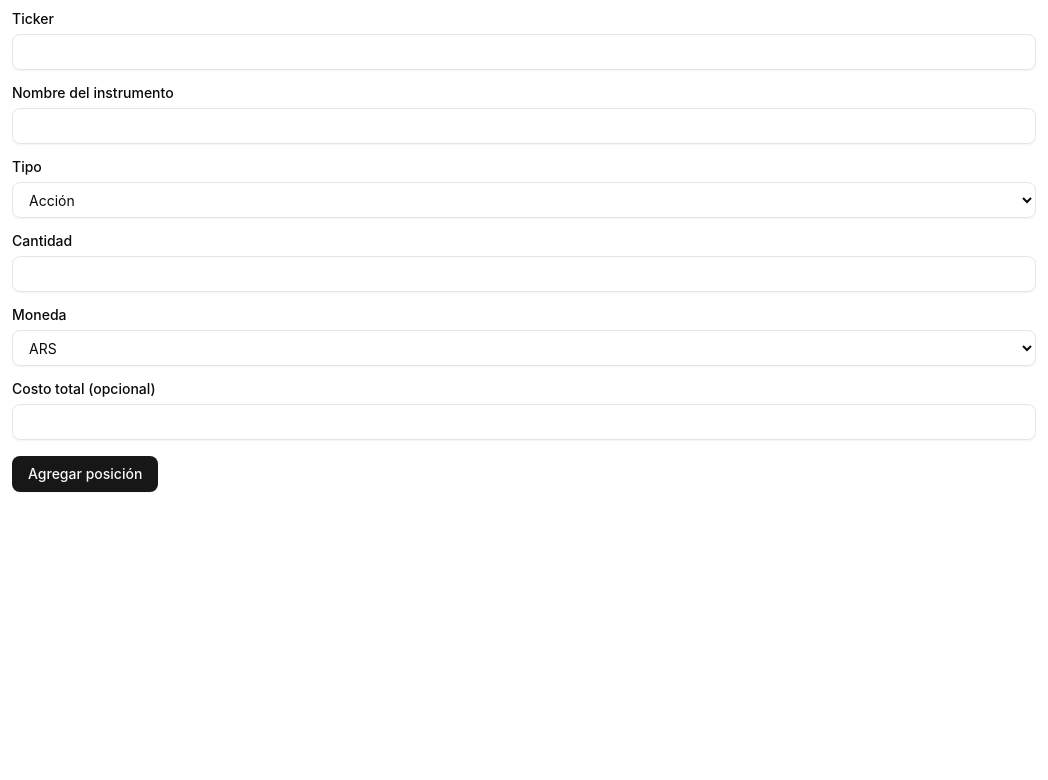
Test: a schema failure that cannot be placed on a field is never silent › add holding shows the unexpected error above the form and focuses it
Type "AAPL" into the field labelled "Ticker" at (524, 52), box [12, 34, 1036, 70]
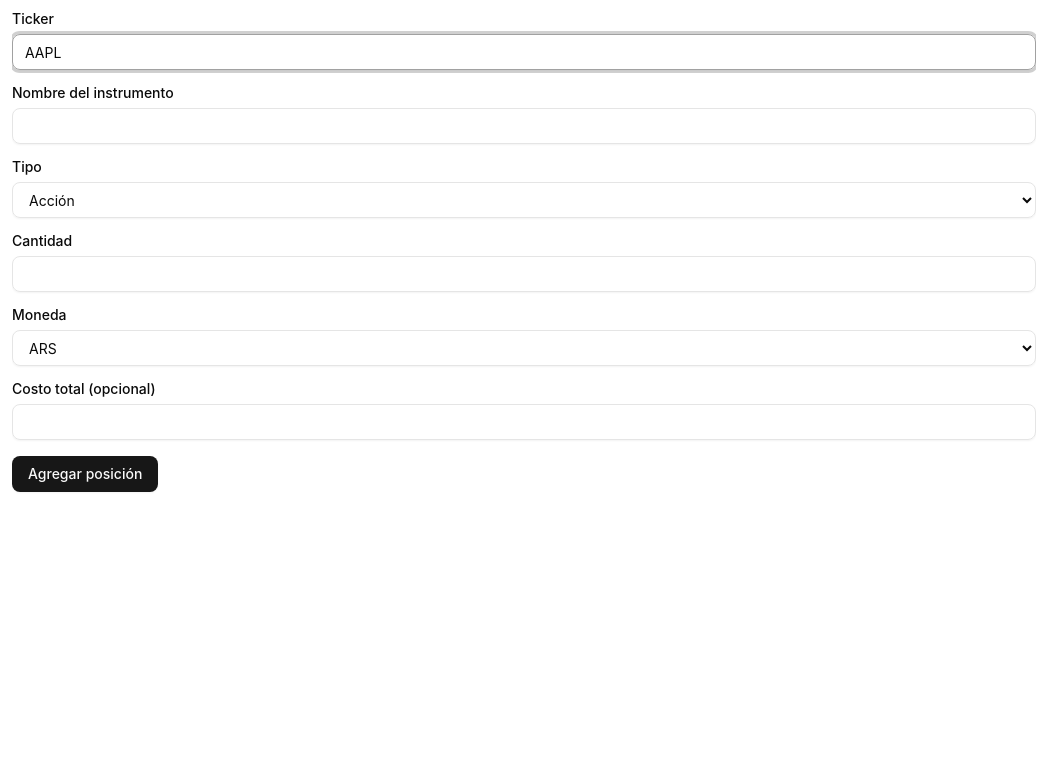
Type "Apple" into the field labelled "Nombre del instrumento" at (524, 126), box [12, 108, 1036, 144]
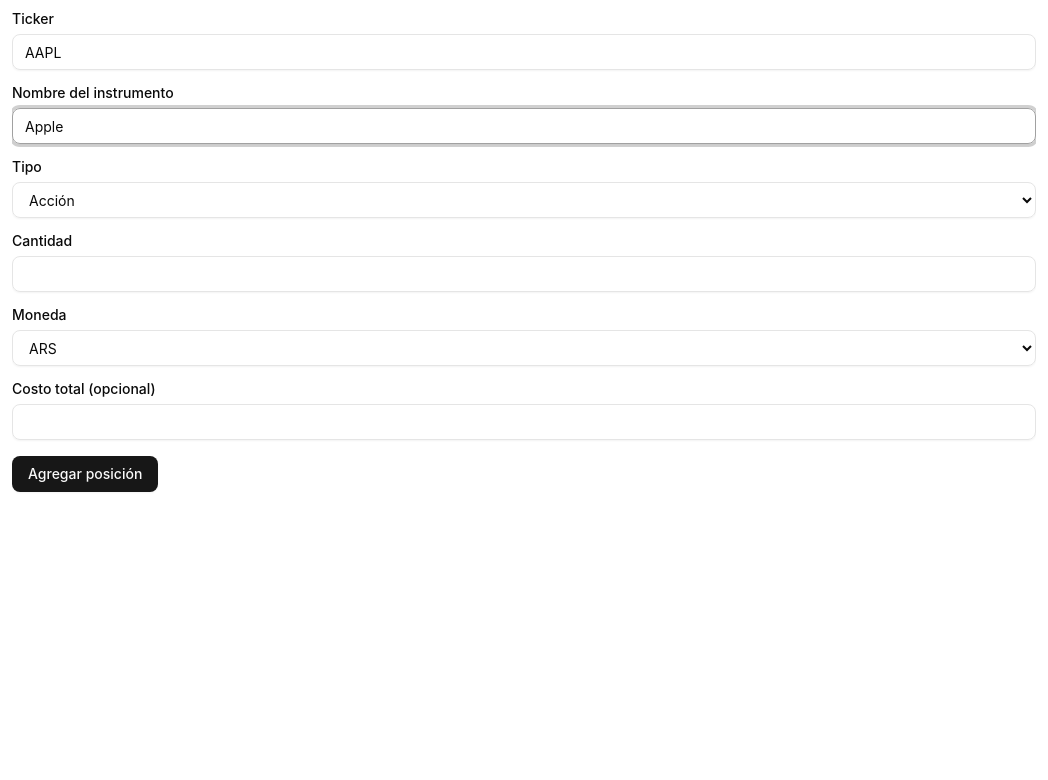
Type "1" into the field labelled "Cantidad" at (524, 274), box [12, 256, 1036, 292]
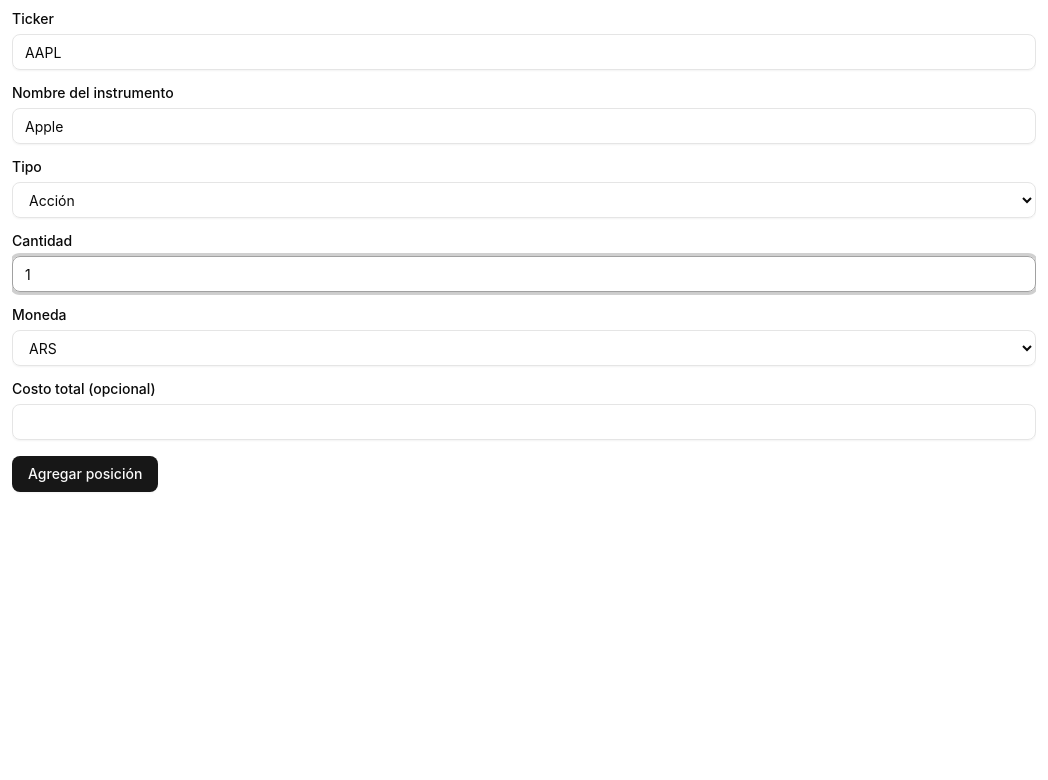
Click the button "Agregar posición" at (85, 474), box [12, 456, 158, 492]
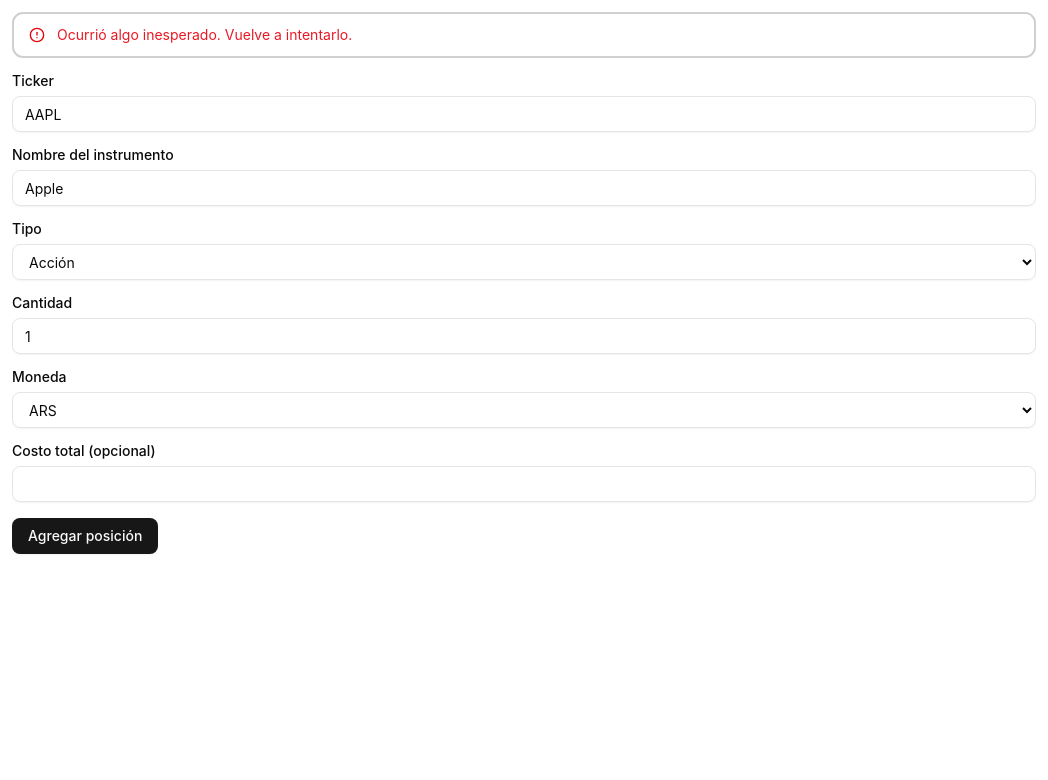
Expected: the message reads "Ocurrió algo inesperado. Vuelve a intentarlo.", [57, 26, 352, 43]
